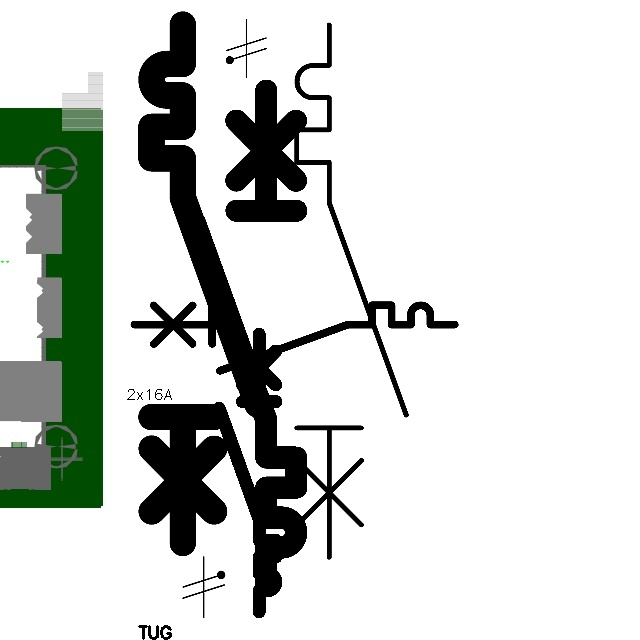interruptor_termomagnetico: (283, 11, 420, 570), (138, 11, 271, 556), (182, 77, 309, 598), (126, 297, 463, 379), (212, 327, 283, 619)
